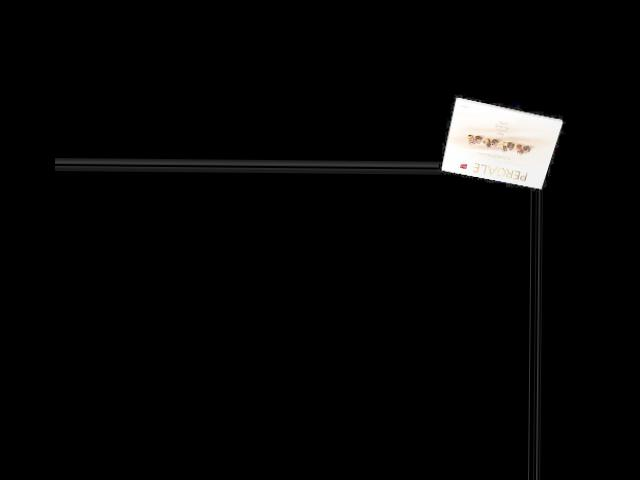chocolate: (445, 93, 557, 187)
